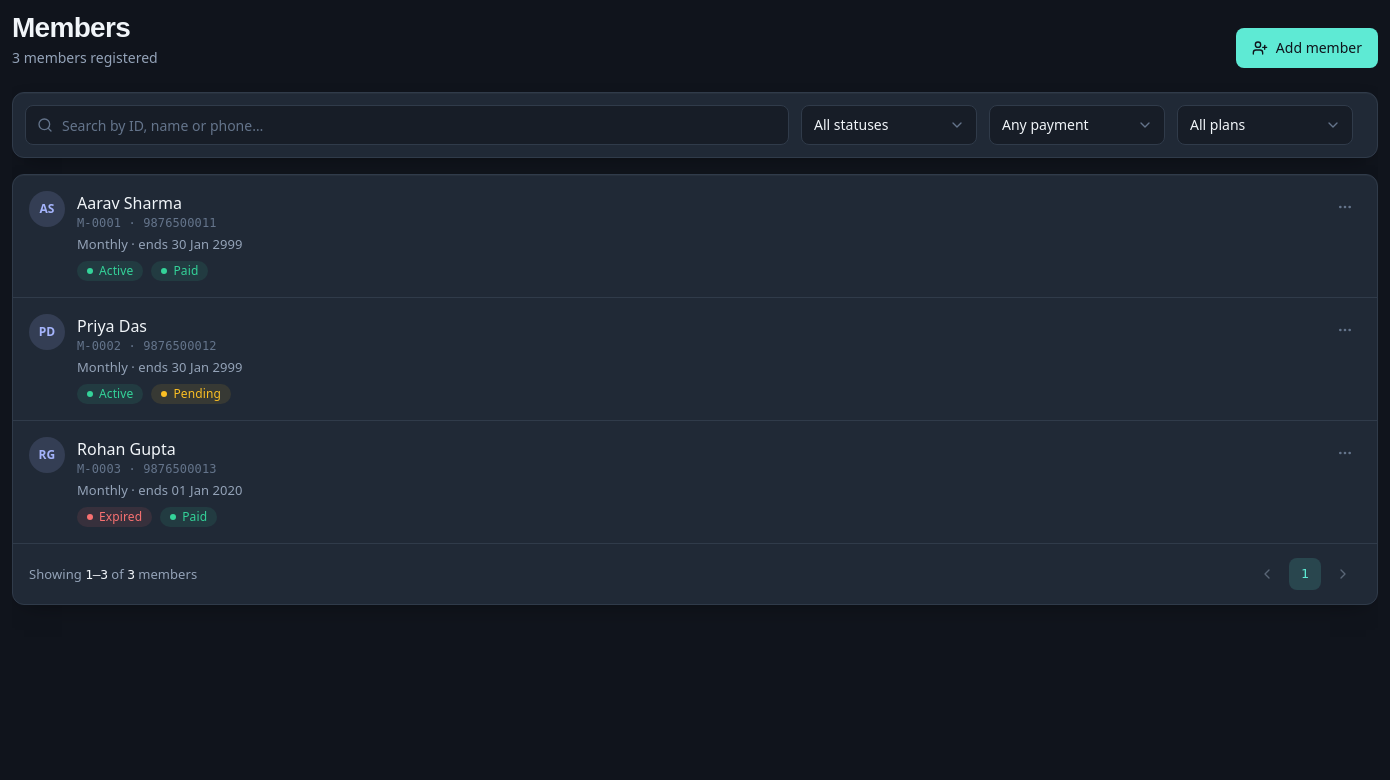
Test: Members page (card layout) › filters by membership status
Check: the text "Aarav Sharma" is shown, box [77,192,182,214]
Select "Expired" in the dropdown named "Filter by membership status" at (889, 125), box [801,105,977,145]
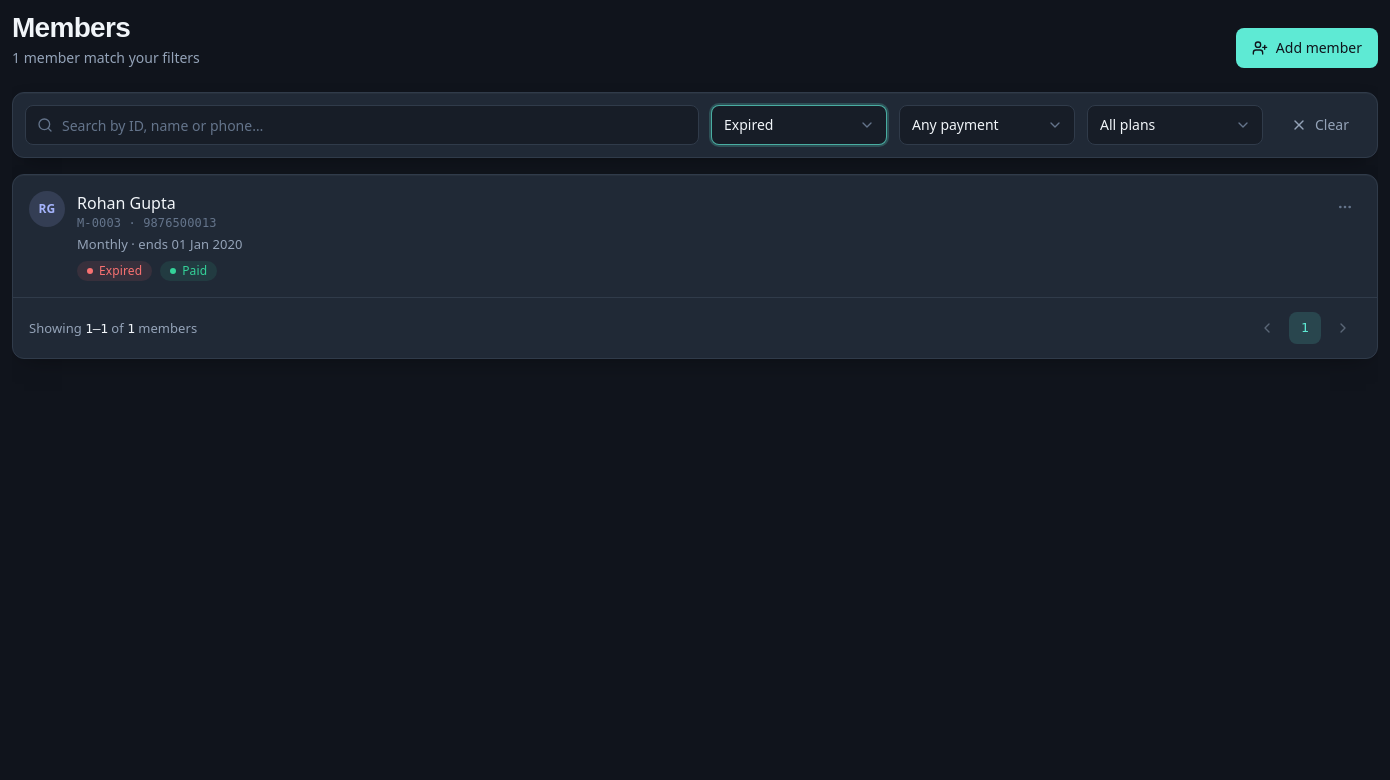
Check: the text "Rohan Gupta" is shown, box [77,192,176,214]
Check: the button "Aarav Sharma" is gone
